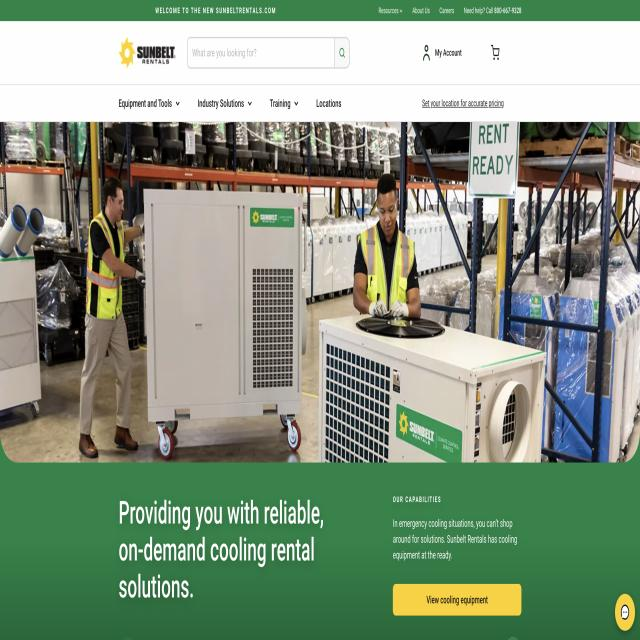Logo: (115, 27, 180, 78)
Navigation: (113, 88, 349, 117)
